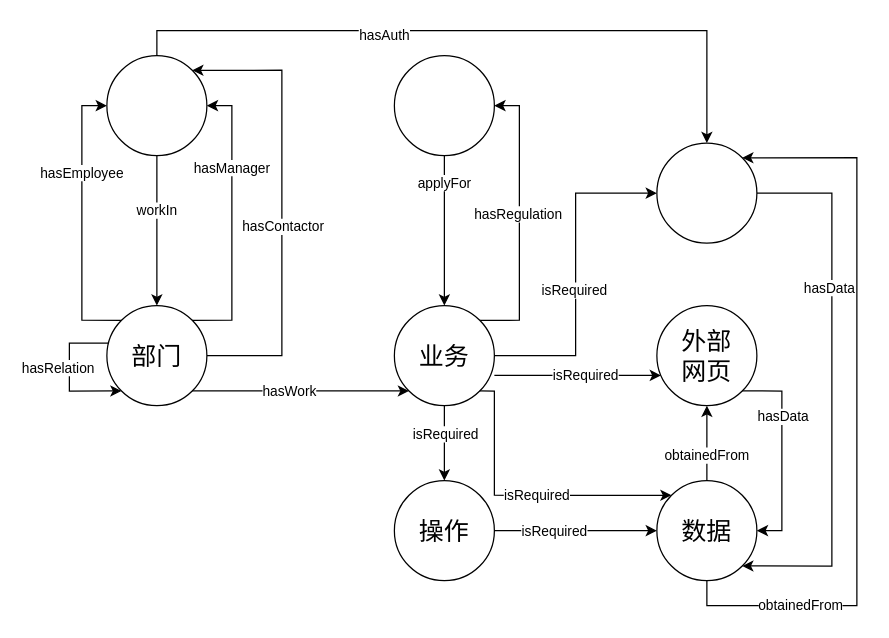
This 889x638 diagram has some shape labels left out. The shapes that lost their labels are listed below. From the top down, each one's box as (x1, y1, x2, y2) in pixels, then its label:
(106, 54, 207, 156): 自然人
(393, 54, 494, 156): 政策 规章
(656, 142, 757, 243): 内部 系统
